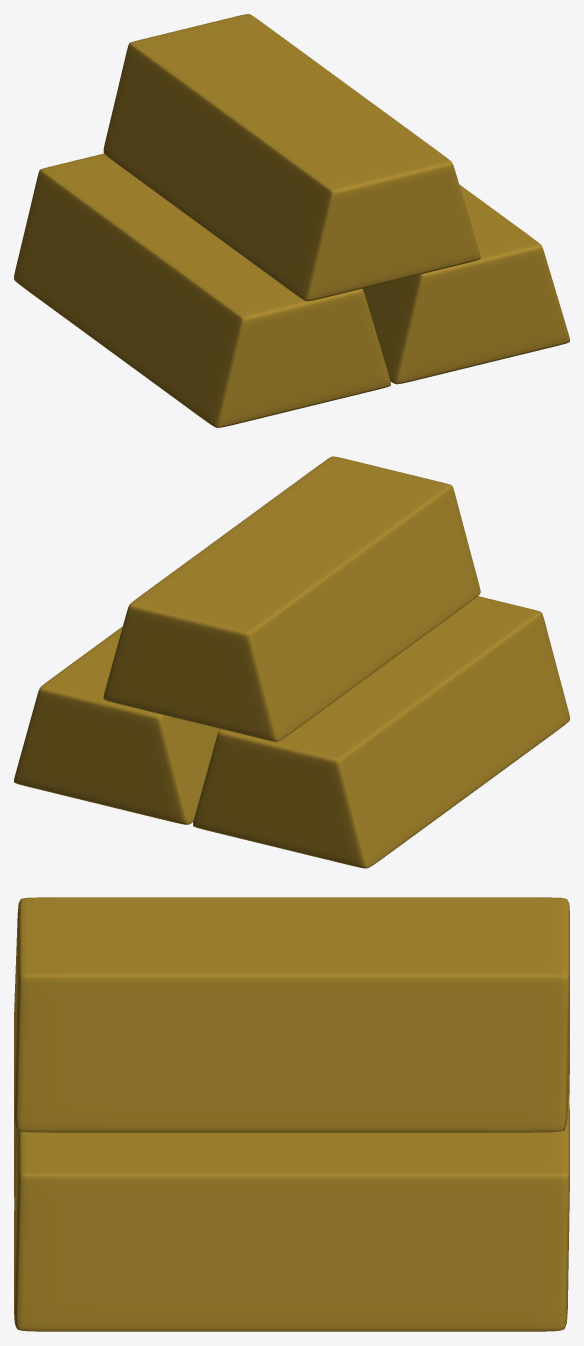
Rendered from Gold_Stack_Small.fbx.
3 views of the same model, one above another, from view 1: azimuth 30°, elevation 25°; view 2: azimuth 150°, elevation 25°; view 3: azimuth 270°, elevation 25° (orthographic). The views are drawn at different scales.
Parts seen in each view (by area): view 1: Gold_Stack_Small; view 2: Gold_Stack_Small; view 3: Gold_Stack_Small.
Boxes of the visible parts, box(x1,y1,x2,y2) form: Gold_Stack_Small: box(14, 14, 569, 427); Gold_Stack_Small: box(14, 456, 569, 868); Gold_Stack_Small: box(14, 897, 569, 1331).
Size of the model in its own units: 0.1989 by 0.112 by 0.2007.
Materials: 1 (1 with a texture image).
